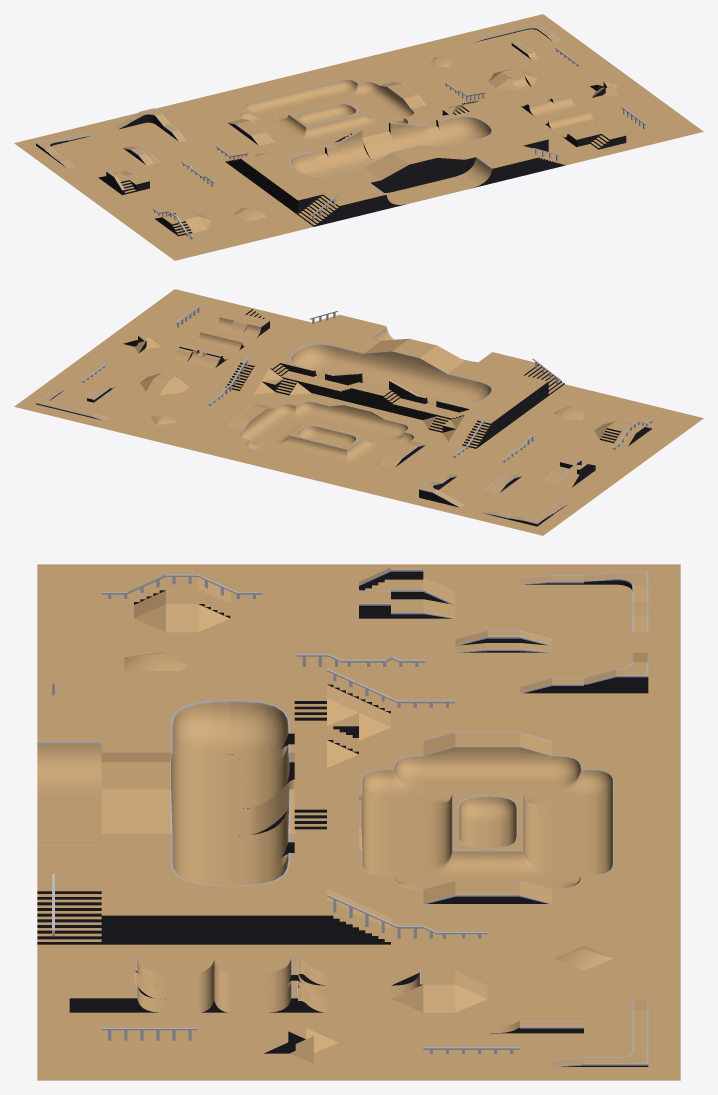
Rendered from !Example_FBX.fbx.
3 views of the same model, one above another, from view 1: azimuth 30°, elevation 25°; view 2: azimuth 150°, elevation 25°; view 3: azimuth 270°, elevation 25° (orthographic). The views are drawn at different scales.
Parts seen in each view (by area): view 1: pPlane23, Quater_LRG_HighVert_RL11, Quater_LRG_Bowl7, Quater_LRG_Straight3, Quater_LRG_Gap7, Quater_LRG_Gap8, Quater_LRG_HighVert_RL9, Quater_LRG_Drop_Full2, Quater_LRG_Bowl6; view 2: pPlane23, Quater_LRG_HighVert_2, Quater_LRG_HighVert_RL6, Quater_LRG_Bowl8, Quater_LRG_HighVert_RL, Quater_LRG_Straight5, Quater_LRG_Straight6, Quater_LRG_Bowl5, Quater_LRG_Bowl7; view 3: pPlane23, Quater_LRG_Straight4, Quater_LRG_Bowl5, Quater_LRG_Bowl6, Quater_LRG_HighVert_RL9, Quater_LRG_HighVert_RL, Quater_LRG_HighVert_2, Quater_LRG_Gap7, Quater_LRG_Straight5, Quater_LRG_Drop_Full2, Quater_LRG_HighVert_RL6, Quater_LRG_HighVert_RL11 (+36 smaller).
Part boxes in pixels (left/top/right/bottom): pPlane23: left=14, top=14, right=703, bottom=260; Quater_LRG_HighVert_RL11: left=333, top=129, right=373, bottom=170; Quater_LRG_Bowl7: left=445, top=111, right=487, bottom=143; Quater_LRG_Straight3: left=451, top=156, right=494, bottom=189; Quater_LRG_Gap7: left=306, top=145, right=348, bottom=176; Quater_LRG_Gap8: left=417, top=117, right=459, bottom=146; Quater_LRG_HighVert_RL9: left=389, top=122, right=426, bottom=150; Quater_LRG_Drop_Full2: left=362, top=131, right=397, bottom=161; Quater_LRG_Bowl6: left=278, top=151, right=318, bottom=176; pPlane23: left=14, top=289, right=703, bottom=535; Quater_LRG_HighVert_2: left=377, top=350, right=420, bottom=389; Quater_LRG_HighVert_RL6: left=408, top=357, right=448, bottom=398; Quater_LRG_Bowl8: left=294, top=339, right=336, bottom=371; Quater_LRG_HighVert_RL: left=355, top=350, right=392, bottom=385; Quater_LRG_Straight5: left=433, top=373, right=476, bottom=404; Quater_LRG_Straight6: left=322, top=345, right=364, bottom=374; Quater_LRG_Bowl5: left=463, top=379, right=504, bottom=404; Quater_LRG_Bowl7: left=278, top=350, right=320, bottom=374; pPlane23: left=37, top=564, right=680, bottom=1080; Quater_LRG_Straight4: left=37, top=739, right=101, bottom=795; Quater_LRG_Bowl5: left=166, top=698, right=230, bottom=754; Quater_LRG_Bowl6: left=230, top=698, right=294, bottom=754; Quater_LRG_HighVert_RL9: left=230, top=789, right=294, bottom=863; Quater_LRG_HighVert_RL: left=166, top=789, right=230, bottom=863; Quater_LRG_HighVert_2: left=166, top=762, right=230, bottom=835; Quater_LRG_Gap7: left=230, top=725, right=294, bottom=781; Quater_LRG_Straight5: left=166, top=725, right=230, bottom=781; Quater_LRG_Drop_Full2: left=230, top=779, right=294, bottom=835; Quater_LRG_HighVert_RL6: left=166, top=752, right=230, bottom=808; Quater_LRG_HighVert_RL11: left=230, top=752, right=294, bottom=808.
Size of the model in its own units: 380 by 21.01 by 200.
